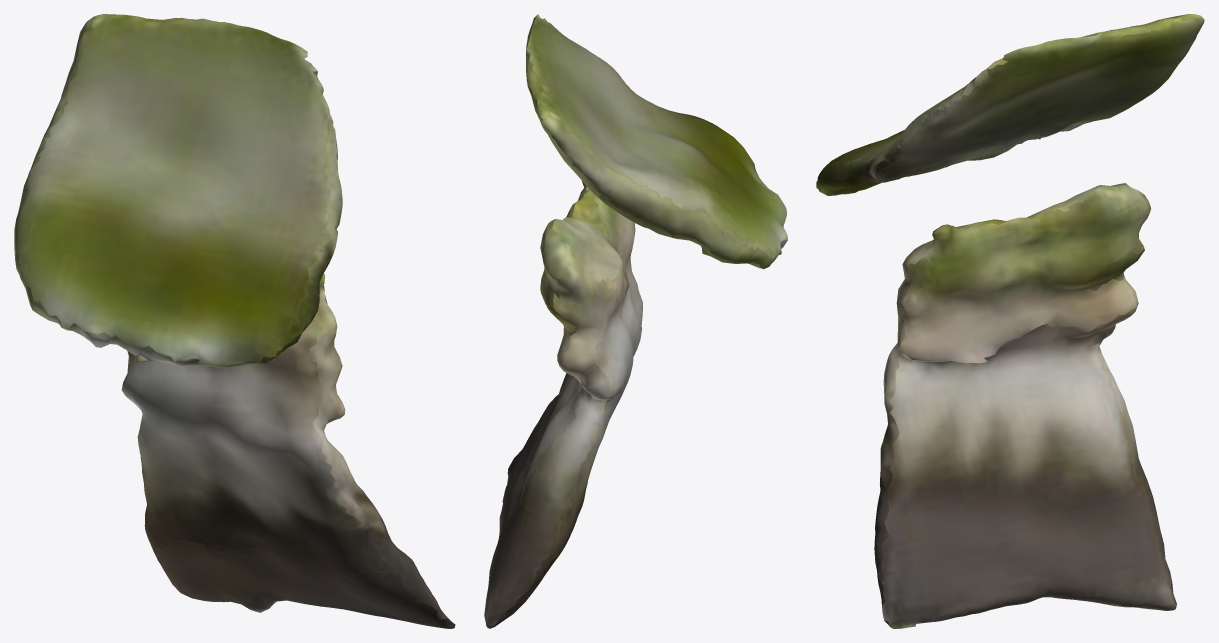
File: 9_vase.glb
3 views of the same model, side by side, from view 1: azimuth 30°, elevation 25°; view 2: azimuth 150°, elevation 25°; view 3: azimuth 270°, elevation 25° (orthographic). The views are drawn at different scales.
Parts seen in each view (by area): view 1: 9_vase; view 2: 9_vase; view 3: 9_vase.
Boxes of the visible parts, bbox=[...] form: 9_vase: bbox=[14, 14, 455, 628]; 9_vase: bbox=[484, 14, 787, 628]; 9_vase: bbox=[816, 14, 1204, 628].
Size of the model in its own units: 0.4696 by 0.7636 by 0.4652.
Materials: 1 (1 with a texture image).
